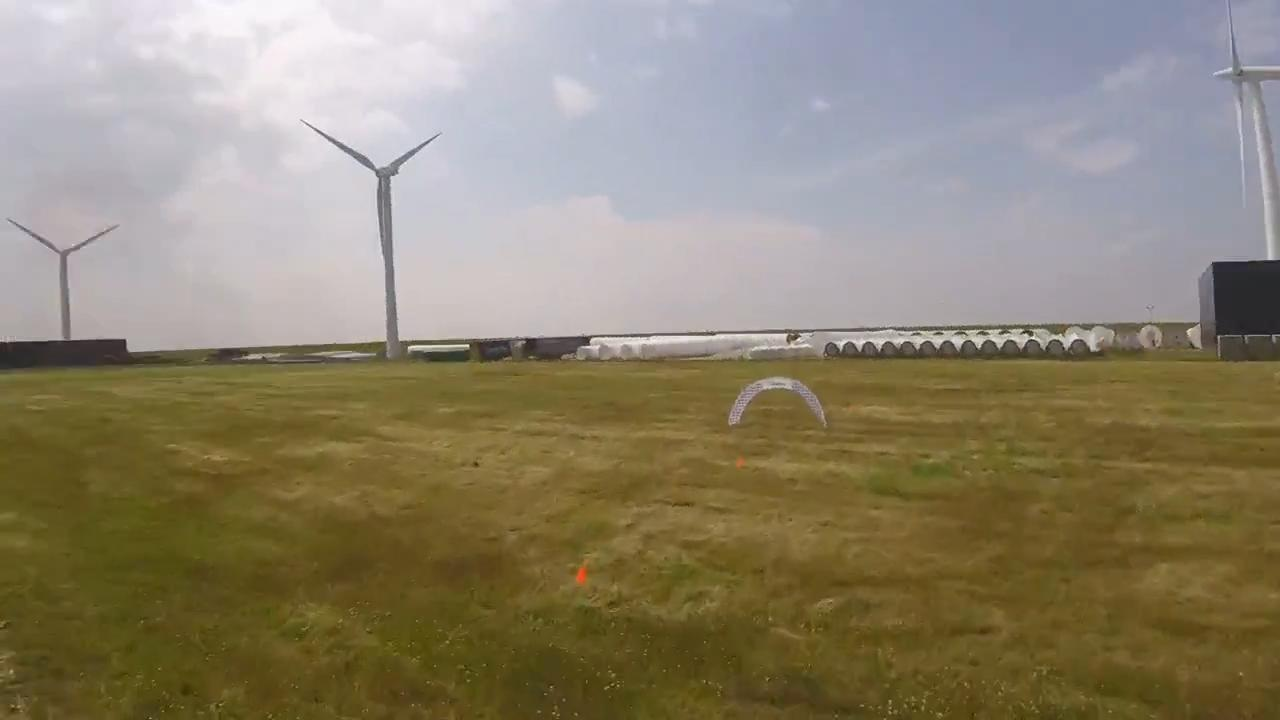gate: (729, 376, 826, 428)
